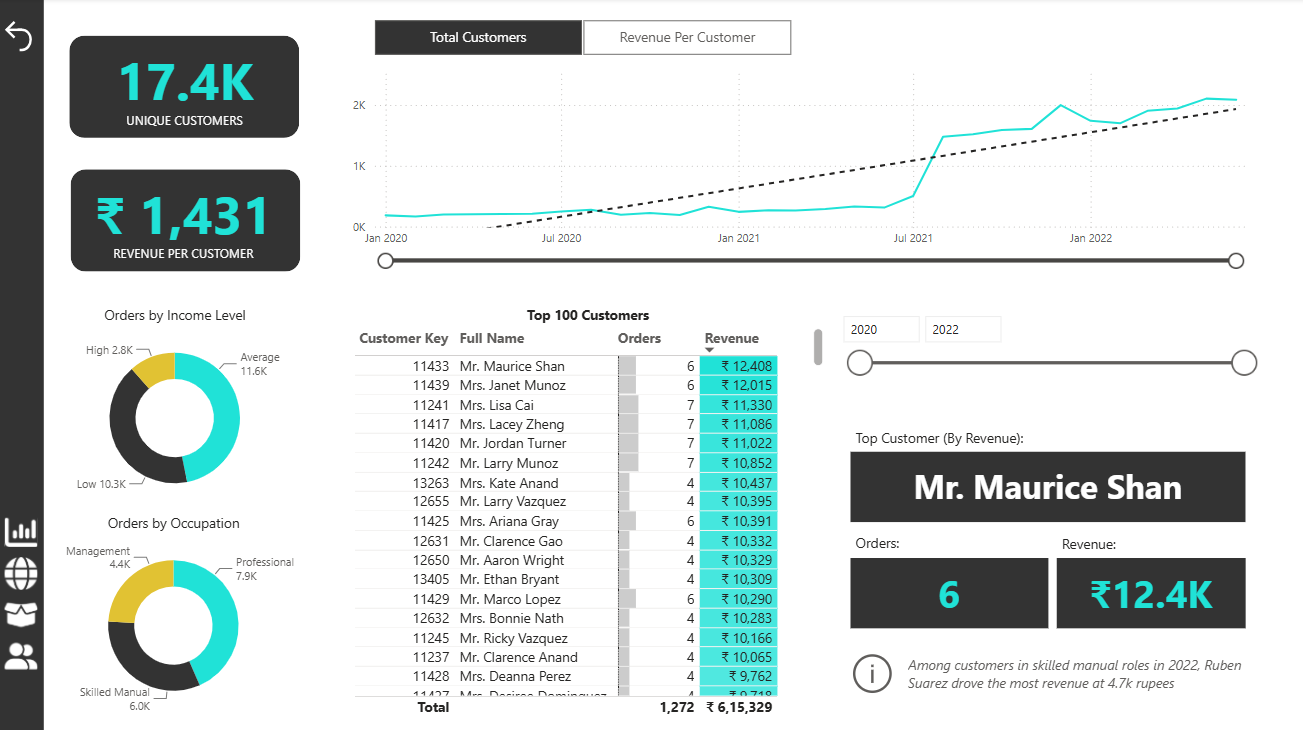

What the dashboard file says about the page in this screenshot:
{"tool":"powerbi","page":{"name":"Customer Detail","canvas":[1280,720],"ordinal":3},"visuals":[{"type":"shape","box":[0,0,45,720.2],"z":0},{"type":"shape","box":[69.7,36.7,225,100.3],"z":1000},{"type":"shape","box":[70.9,167.5,225,100.3],"z":2000},{"type":"card","fields":{"Values":["Measure Table.Total Customers"]},"box":[42.8,6.1,280,161.4],"z":3000},{"type":"card","fields":{"Values":["Measure Table.Average Revenue Per Customer"]},"box":[74.6,148,214,139.4],"z":4000},{"type":"lineChart","fields":{"Category":["Calendar Lookup.Date Hierarchy.Start of Year","Calendar Lookup.Date Hierarchy.Start of Month","Calendar Lookup.Date Hierarchy.Start of Week","Calendar Lookup.Date Hierarchy.Date"],"Y":["Measure Table.Total Customers"]},"box":[342.4,61.1,895.1,206.7],"z":5000},{"type":"donutChart","title":"Orders by Income Level","fields":{"Category":["Customer Lookup.Income Level"],"Y":["Measure Table.Total Orders"]},"box":[46.5,300.8,253.1,203],"z":6000},{"type":"donutChart","title":"Orders by Occupation","fields":{"Category":["Customer Lookup.Occupation"],"Y":["Measure Table.Total Orders"]},"box":[45.2,503.8,253.1,203],"z":7000},{"type":"tableEx","title":"Top 100 Customers","fields":{"Values":["Customer Lookup.CustomerKey","Customer Lookup.FullName","Measure Table.Total Orders","Measure Table.Total Revenue"]},"box":[342.4,300.8,469.6,406],"z":8000},{"type":"card","fields":{"Values":["Customer Lookup.Full Name (Customer Detail)"]},"box":[834,443.4,386.4,68.5],"z":9000},{"type":"card","fields":{"Values":["Measure Table.Total Orders (Customer Detail)"]},"box":[834,547.3,193.2,68.5],"z":10000},{"type":"card","fields":{"Values":["Measure Table.Total Revenue (Customer Detail)"]},"box":[1035.7,547.3,184.6,68.5],"z":11000},{"type":"textbox","box":[834,415.3,183.4,28.1],"z":12000},{"type":"textbox","box":[834,518,183.4,28.1],"z":13000},{"type":"textbox","box":[1035.7,519.2,183.4,28.1],"z":14000},{"type":"slicer","fields":{"Values":["Calendar Lookup.Year"]},"box":[814.4,300.8,425.5,99],"z":15000},{"type":"actionButton","box":[830.3,635.9,409.6,50.1],"z":16000},{"type":"actionButton","box":[0,17.1,45.2,40.4],"z":17000},{"type":"actionButton","box":[1.8,502.6,45.2,40.4],"z":18000},{"type":"actionButton","box":[1.8,542.9,45.2,40.4],"z":19000},{"type":"actionButton","box":[1.8,583.3,45.2,40.4],"z":20000},{"type":"actionButton","box":[1.8,623.6,45.2,40.4],"z":21000},{"type":"slicer","fields":{"Values":["Customer Metric Selection.Customer Metric Selection"]},"box":[342.4,14.7,457.3,47.7],"z":22000}]}

Visuals, with their boxes on the page's 1280x720 design canvas (x1, y1, x2, y2). These are canvas units, not pixel positions in the 1303x730 screenshot, which may show the page scaled, cropped or inside an application window:
shape: bbox=[0, 0, 45, 720]
shape: bbox=[70, 37, 295, 137]
shape: bbox=[71, 168, 296, 268]
card - Measure Table.Total Customers: bbox=[43, 6, 323, 168]
card - Measure Table.Average Revenue Per Customer: bbox=[75, 148, 289, 287]
lineChart - Calendar Lookup.Date Hierarchy.Start of Year x Calendar Lookup.Date Hierarchy.Start of Month: bbox=[342, 61, 1238, 268]
"Orders by Income Level" donutChart: bbox=[46, 301, 300, 504]
"Orders by Occupation" donutChart: bbox=[45, 504, 298, 707]
"Top 100 Customers" tableEx: bbox=[342, 301, 812, 707]
card - Customer Lookup.Full Name (Customer Detail): bbox=[834, 443, 1220, 512]
card - Measure Table.Total Orders (Customer Detail): bbox=[834, 547, 1027, 616]
card - Measure Table.Total Revenue (Customer Detail): bbox=[1036, 547, 1220, 616]
textbox: bbox=[834, 415, 1017, 443]
textbox: bbox=[834, 518, 1017, 546]
textbox: bbox=[1036, 519, 1219, 547]
slicer - Calendar Lookup.Year: bbox=[814, 301, 1240, 400]
actionButton: bbox=[830, 636, 1240, 686]
actionButton: bbox=[0, 17, 45, 58]
actionButton: bbox=[2, 503, 47, 543]
actionButton: bbox=[2, 543, 47, 583]
actionButton: bbox=[2, 583, 47, 624]
actionButton: bbox=[2, 624, 47, 664]
slicer - Customer Metric Selection.Customer Metric Selection: bbox=[342, 15, 800, 62]
